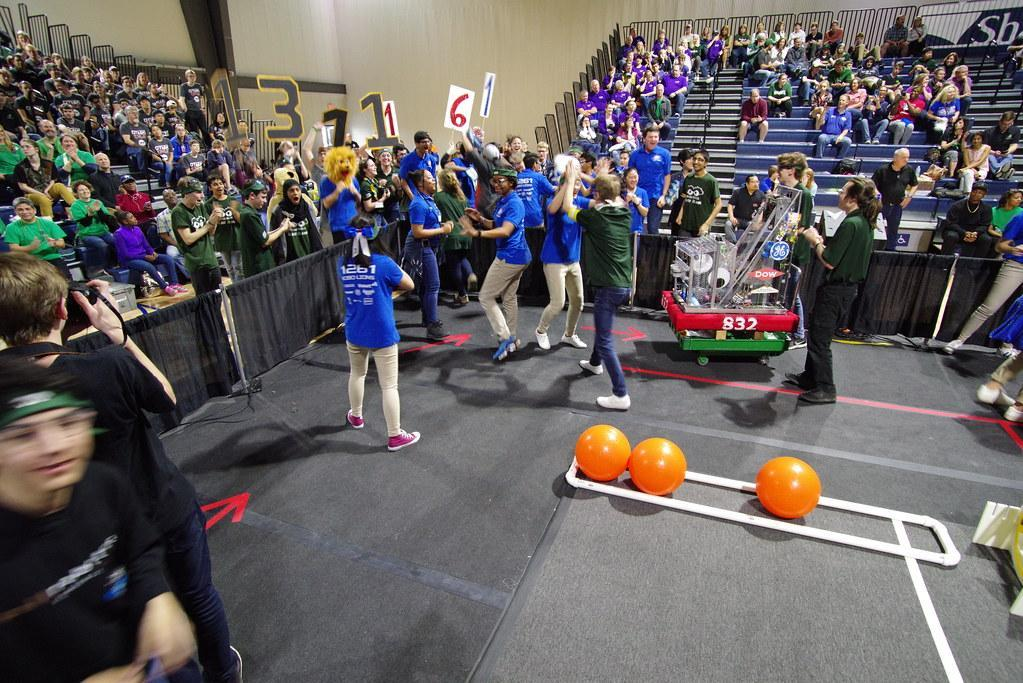robot: (657, 176, 806, 340)
